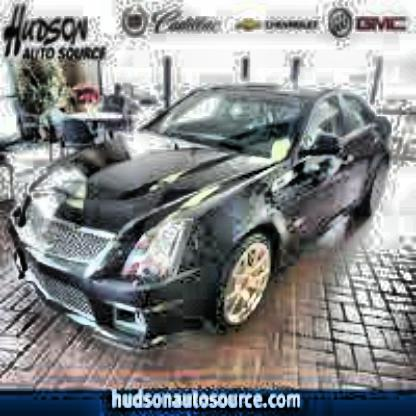Cadillac CTS-V Sedan 2012: (7, 78, 398, 362)
